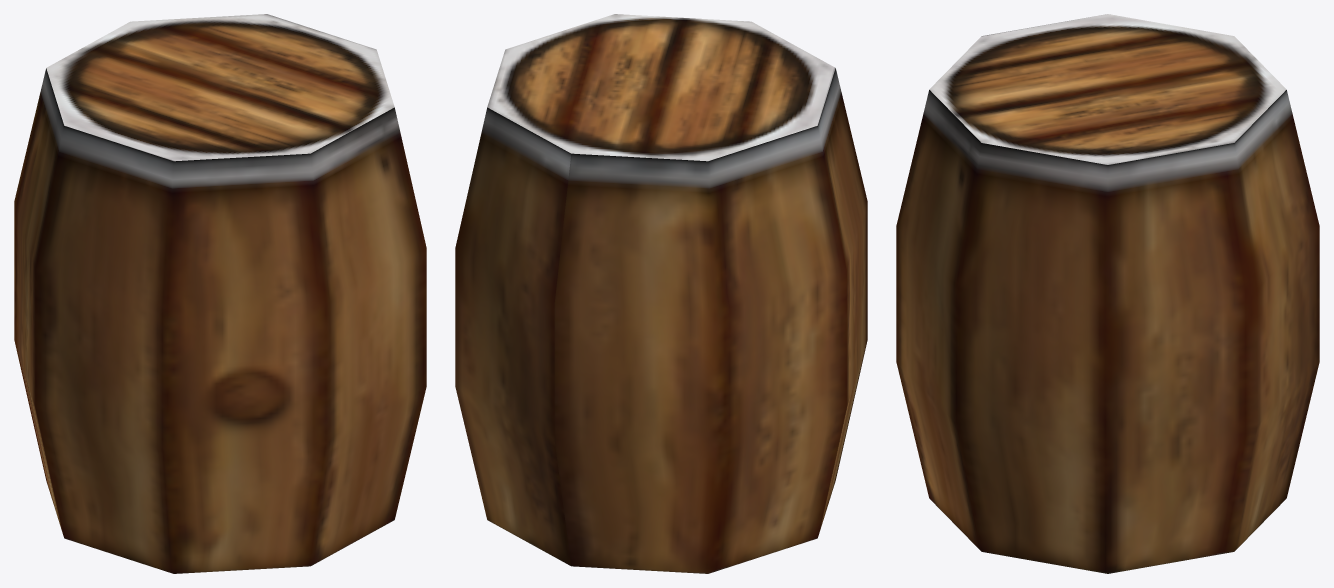
The model's file is tonneau.FBX.
The picture shows the model from 3 angles, left to right: view 1: azimuth 30°, elevation 25°; view 2: azimuth 150°, elevation 25°; view 3: azimuth 270°, elevation 25°; orthographic projection.
Parts seen in each view (by area): view 1: tono; view 2: tono; view 3: tono.
Boxes of the visible parts, x1=… form: tono: x1=14, y1=14, x2=426, y2=573; tono: x1=455, y1=14, x2=867, y2=573; tono: x1=896, y1=14, x2=1319, y2=573.
Bounding box in the file's own units: 0.9606 × 1.02 × 0.9606.
